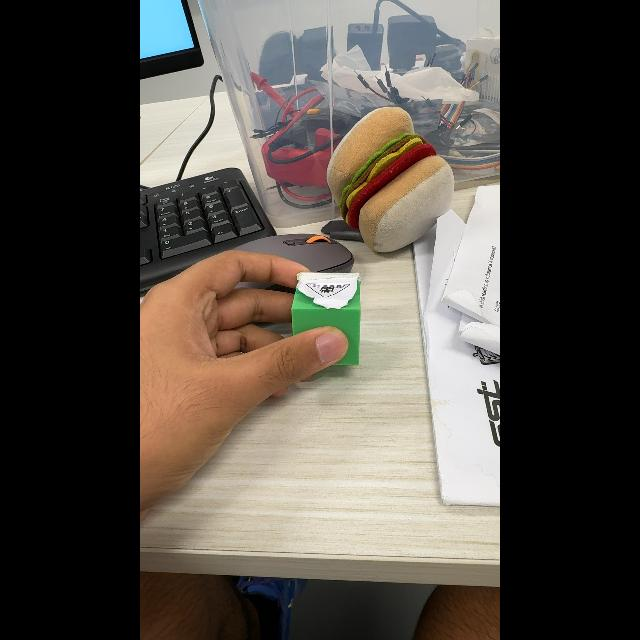Tsunami: (299, 281, 349, 297)
